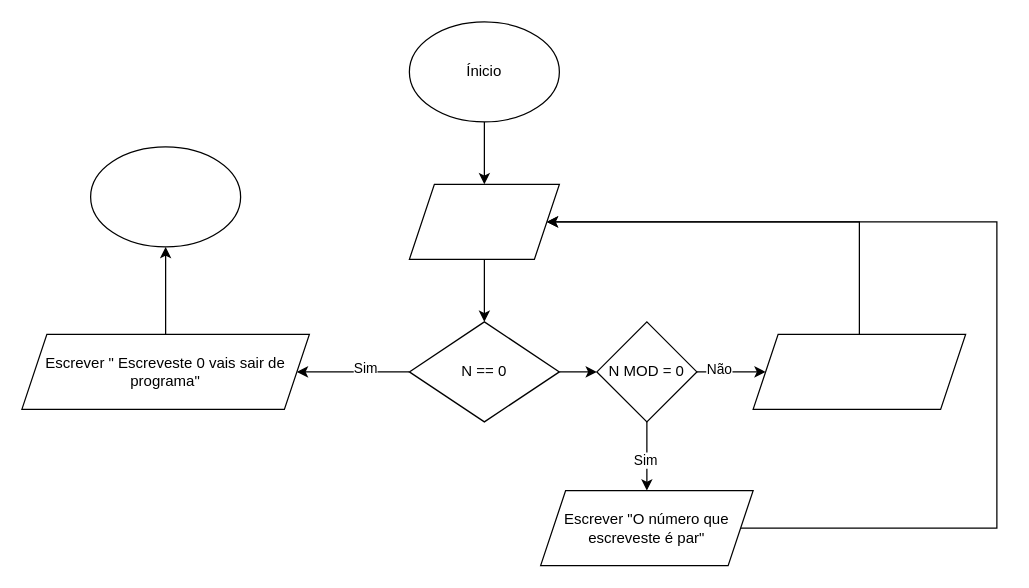
This 1029x588 diagram has some shape labels left out. Each missing label, with the centre of its shape:
Escrever "O número que escreveste é ímpar": (859,371)
Fim: (165,196)
Ler N: (483,221)
